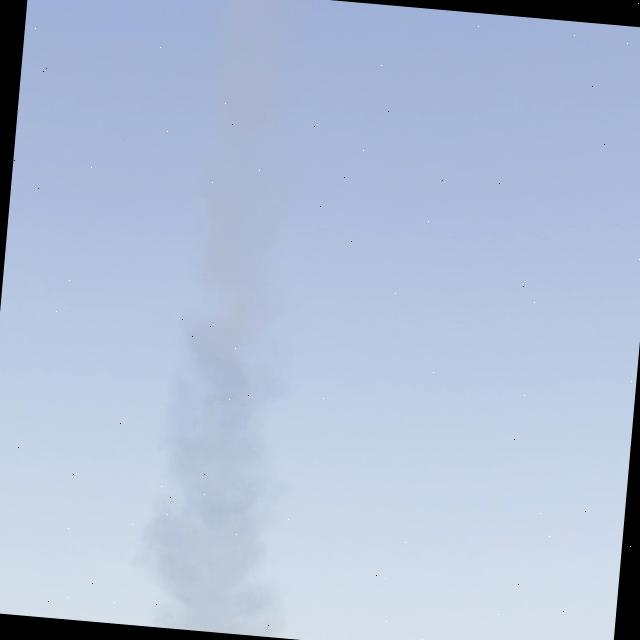smoke_trail_with_rocket: (150, 0, 287, 637)
